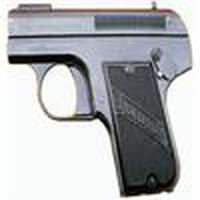gun: (5, 7, 193, 195), (195, 194, 197, 196)
